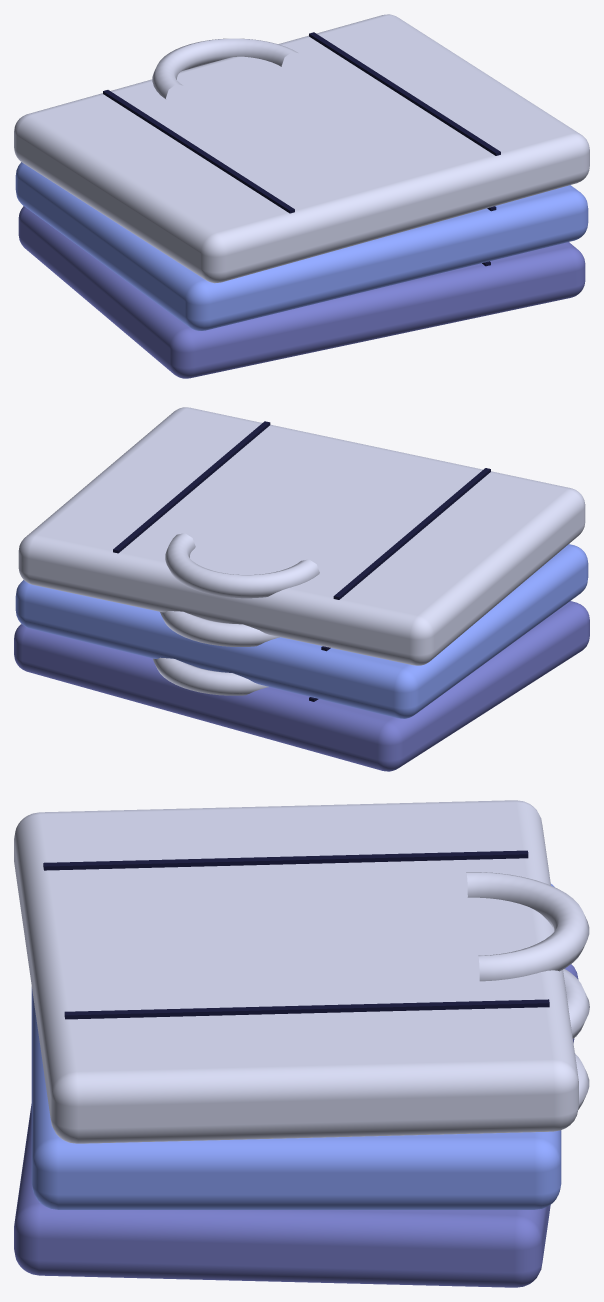
Rendered from foldedStack.glb.
3 views of the same model, one above another, from view 1: azimuth 30°, elevation 25°; view 2: azimuth 150°, elevation 25°; view 3: azimuth 270°, elevation 25° (orthographic). The views are drawn at different scales.
Visible parts, largest first — view 1: body (×3), collar, shirt2; view 2: body (×3), collar (×3), shirt2; view 3: body (×3), shirt2, collar (×2).
Part boxes in pixels (box(x1,y1,x2,y2)): body (×3): box(14, 14, 589, 378); collar: box(152, 38, 297, 98); shirt2: box(103, 32, 500, 213); body (×3): box(14, 407, 589, 771); collar (×3): box(153, 533, 319, 695); shirt2: box(113, 421, 490, 599); body (×3): box(14, 800, 578, 1287); shirt2: box(43, 850, 549, 1019); collar (×2): box(466, 872, 589, 1038).
Bounding box in the file's own units: 0.3124 × 0.116 × 0.2611.
